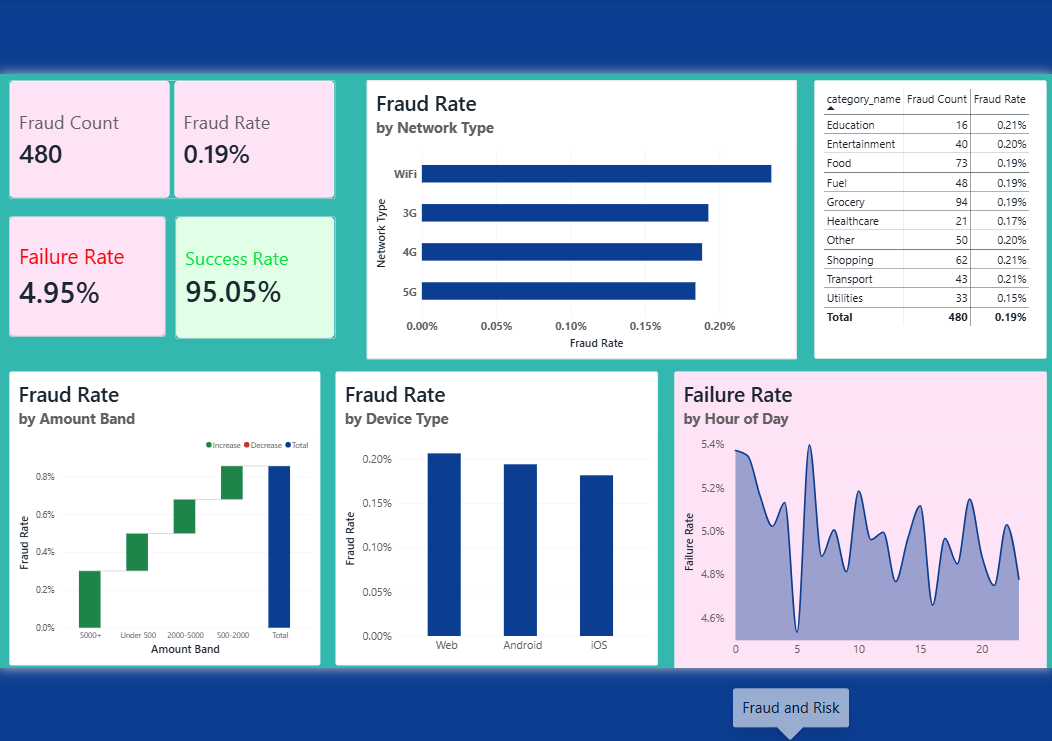

Layout of this report page (visuals, bound fields, positions):
{"tool":"powerbi","page":{"name":"Fraud and Risk","canvas":[1920,1080],"ordinal":3},"visuals":[{"type":"cardVisual","fields":{"Data":["_Measures.Fraud Count","_Measures.Fraud Rate"]},"box":[20.5,11.4,593.2,215.9],"z":0},{"type":"waterfallChart","fields":{"Category":["fact_transactions.Amount Band"],"Y":["_Measures.Fraud Rate"]},"box":[20.5,540.9,565.9,534.1],"z":1000},{"type":"columnChart","title":"Fraud Rate","fields":{"Category":["dim_device.device_type"],"Y":["_Measures.Fraud Rate"]},"box":[613.6,540.9,586.4,534.1],"z":2000},{"type":"clusteredBarChart","title":"Fraud Rate","fields":{"Category":["dim_network.network_type"],"Y":["_Measures.Fraud Rate"]},"box":[670.5,11.4,781.8,506.8],"z":3000},{"type":"tableEx","fields":{"Values":["dim_merchant_category.category_name","_Measures.Fraud Count","_Measures.Fraud Rate"]},"box":[1484.1,11.4,422,506],"z":4000},{"type":"areaChart","title":"Failure Rate","fields":{"Category":["fact_transactions.hour_of_day"],"Y":["_Measures.Failure Rate"]},"box":[1229.6,540.9,677.3,540.9],"z":5000},{"type":"cardVisual","fields":{"Data":["_Measures.Failure Rate"]},"box":[20.5,259.1,284.1,218.2],"z":6000},{"type":"cardVisual","fields":{"Data":["_Measures.Success Rate"]},"box":[322.7,259.1,290.9,222.7],"z":7000}]}

Visuals, with their boxes on the page's 1920x1080 design canvas (x1, y1, x2, y2). These are canvas units, not pixel positions in the 1052x741 screenshot, which may show the page scaled, cropped or inside an application window:
cardVisual - _Measures.Fraud Count x _Measures.Fraud Rate: [20, 11, 614, 227]
waterfallChart - fact_transactions.Amount Band x _Measures.Fraud Rate: [20, 541, 586, 1075]
"Fraud Rate" columnChart: [614, 541, 1200, 1075]
"Fraud Rate" clusteredBarChart: [670, 11, 1452, 518]
tableEx - dim_merchant_category.category_name x _Measures.Fraud Count: [1484, 11, 1906, 517]
"Failure Rate" areaChart: [1230, 541, 1907, 1082]
cardVisual - _Measures.Failure Rate: [20, 259, 305, 477]
cardVisual - _Measures.Success Rate: [323, 259, 614, 482]
